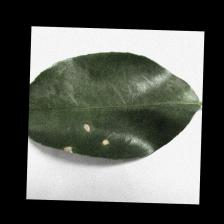canker: (51, 115, 123, 156)
